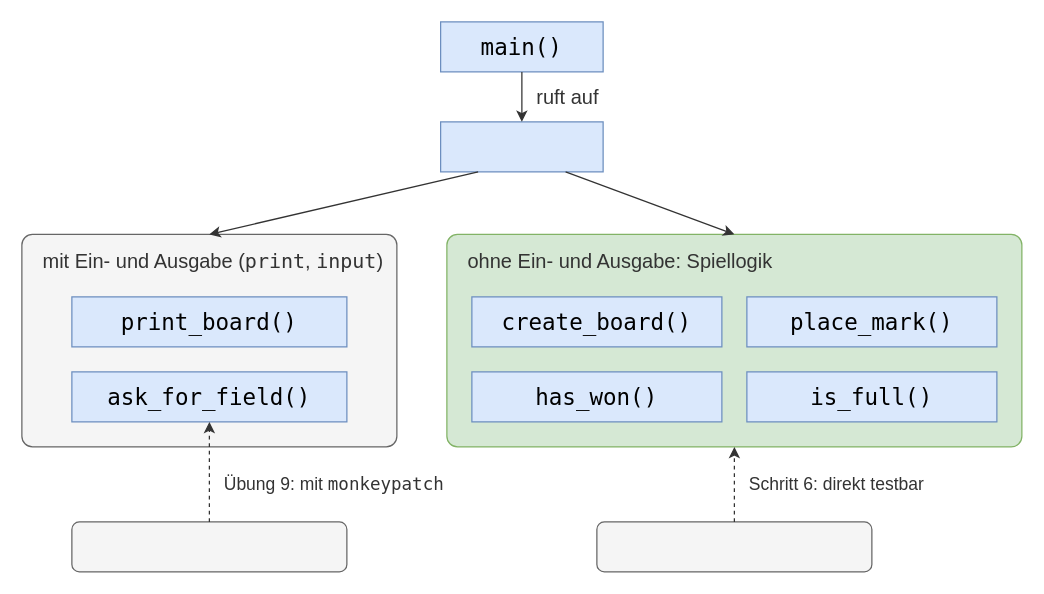
Some shapes in this 1044 by 594 pixel diagram are drawn without their labels. The shapes that lost their labels are listed below. From the top down, each one's centre as x and y in pixels, then its label:
At point 521,146: "play()".
At point 209,546: "test_eingabe.py".
At point 734,546: "test_tictactoe.py".
